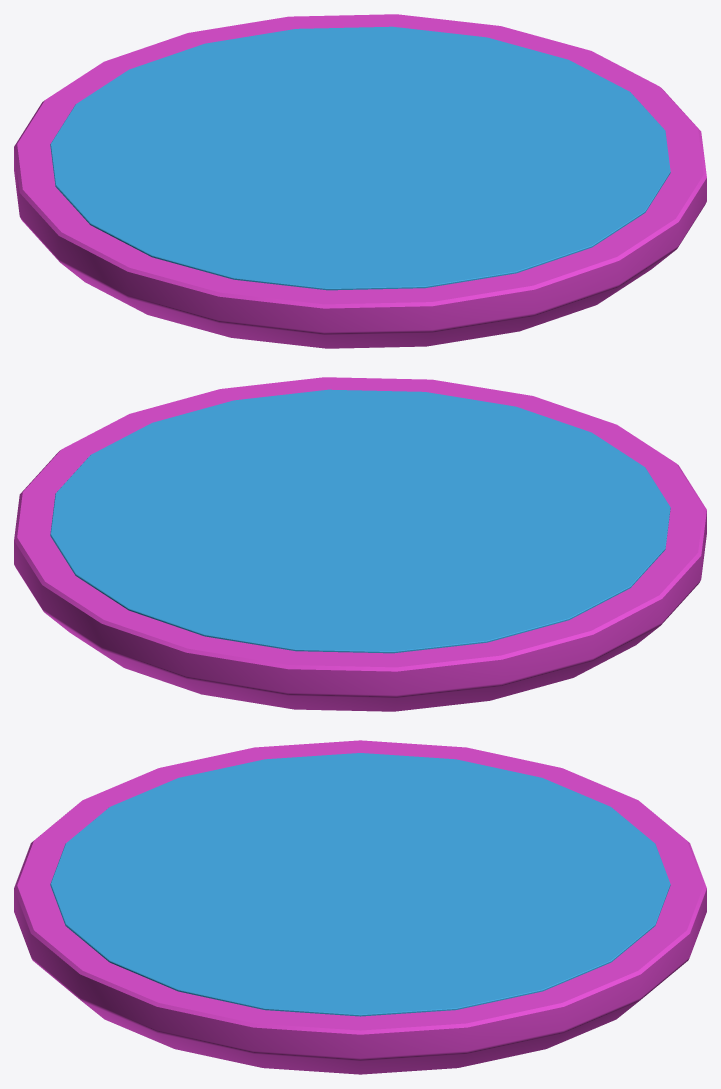
The model's file is PLF0110023.fbx.
3 views of the same model, one above another, from view 1: azimuth 30°, elevation 25°; view 2: azimuth 150°, elevation 25°; view 3: azimuth 270°, elevation 25° (orthographic).
Parts seen in each view (by area): view 1: smPLF0110023; view 2: smPLF0110023; view 3: smPLF0110023.
Part boxes in pixels (x1,y1,x2,y2): smPLF0110023: (14, 14, 706, 348); smPLF0110023: (14, 377, 706, 711); smPLF0110023: (14, 740, 706, 1074).
Size of the model in its own units: 422 by 39.41 by 422.
1 material, 1 textured.
